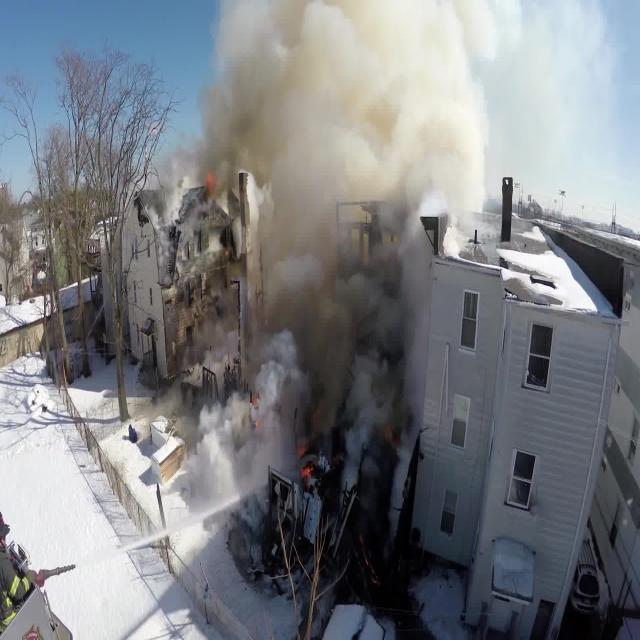Fire: (246, 383, 323, 495), (192, 147, 224, 230)
Smoke: (176, 0, 560, 503)
